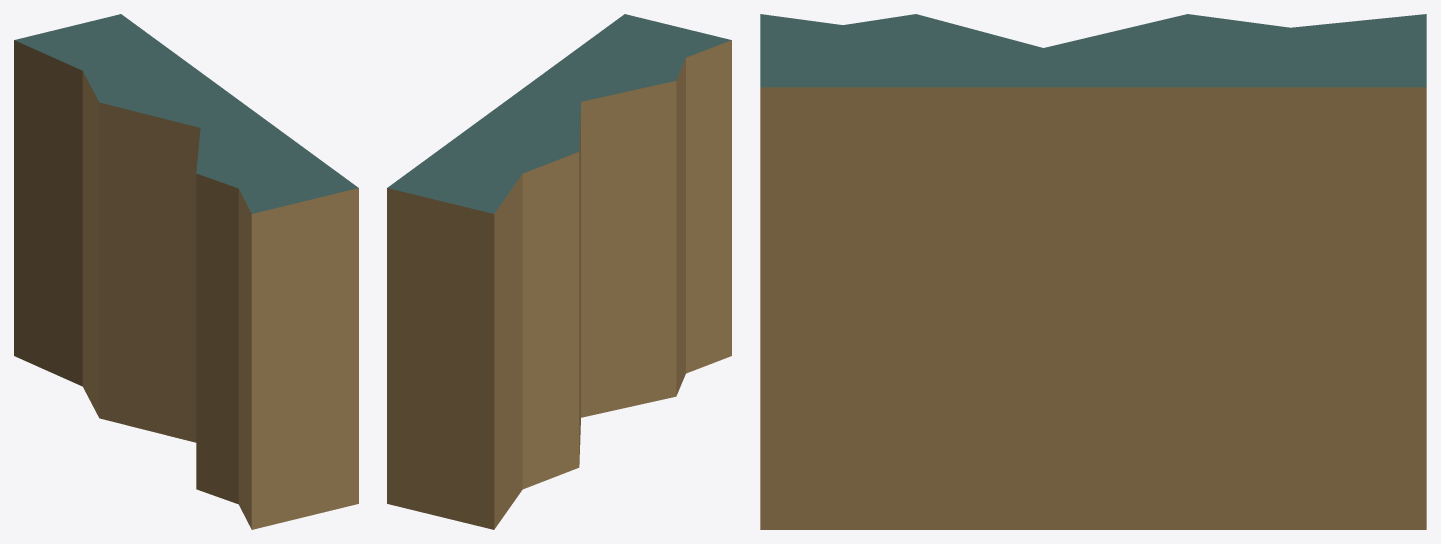
The model's file is Brown_Cliff_Green_Top_01.fbx.
3 views of the same model, side by side, from view 1: azimuth 30°, elevation 25°; view 2: azimuth 150°, elevation 25°; view 3: azimuth 270°, elevation 25° (orthographic). The views are drawn at different scales.
Parts seen in each view (by area): view 1: Mesh1_Brown_Cliff_Green_Top Model; view 2: Mesh1_Brown_Cliff_Green_Top Model; view 3: Mesh1_Brown_Cliff_Green_Top Model.
Boxes of the visible parts, x1,y1,x2,y2 form: Mesh1_Brown_Cliff_Green_Top Model: (14,14,358,529); Mesh1_Brown_Cliff_Green_Top Model: (387,14,731,529); Mesh1_Brown_Cliff_Green_Top Model: (760,14,1426,529).
Size of the model in its own units: 0.78 by 2.2 by 3.
